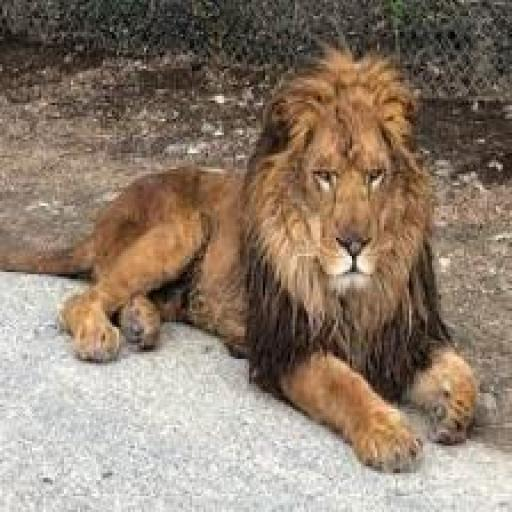lion: (7, 32, 498, 480)
